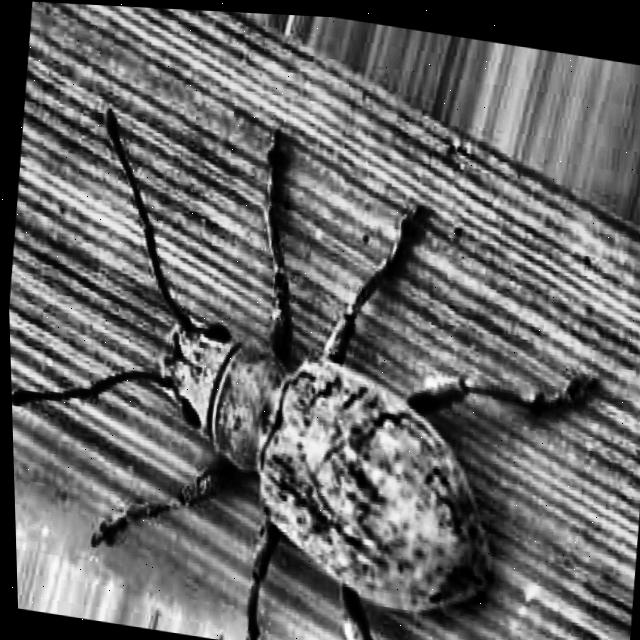Stink bug: (81, 131, 536, 640)
